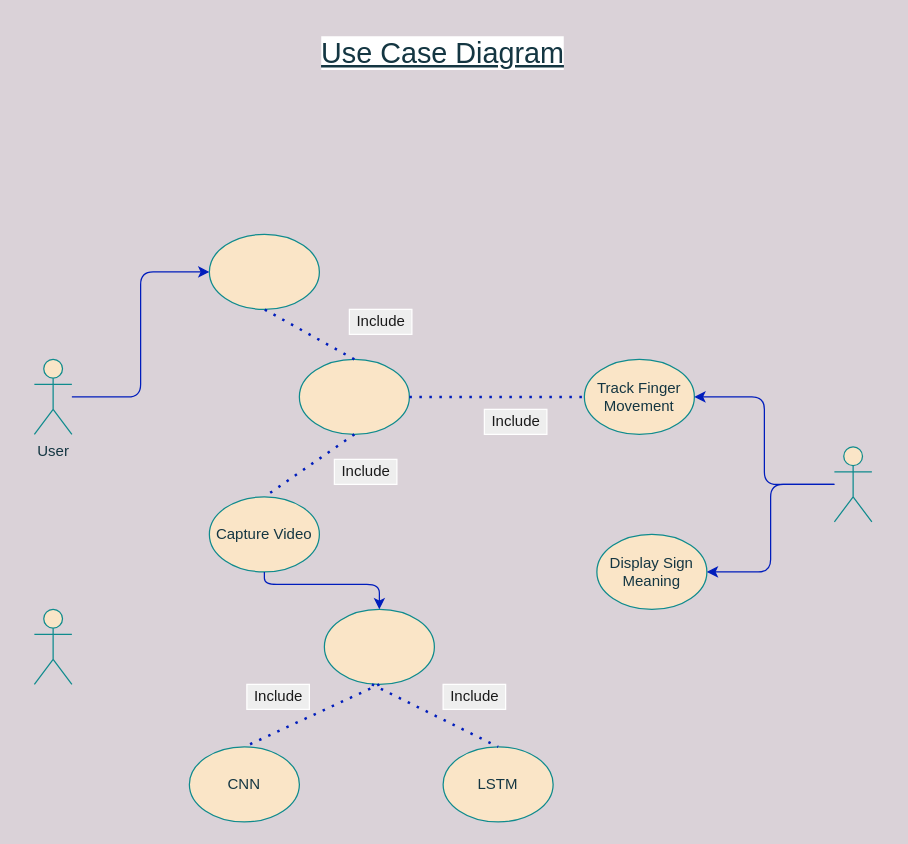
The diagram is 908 pixels wide and 844 high, and some of its shapes have lost their labels. The centre of each missing label's shape, as x and y in pixels:
Computer: the point at 852,484
Finger Movement: the point at 353,396
Perform Gesture: the point at 263,271
Process Video: the point at 378,646
WebCam: the point at 52,646
